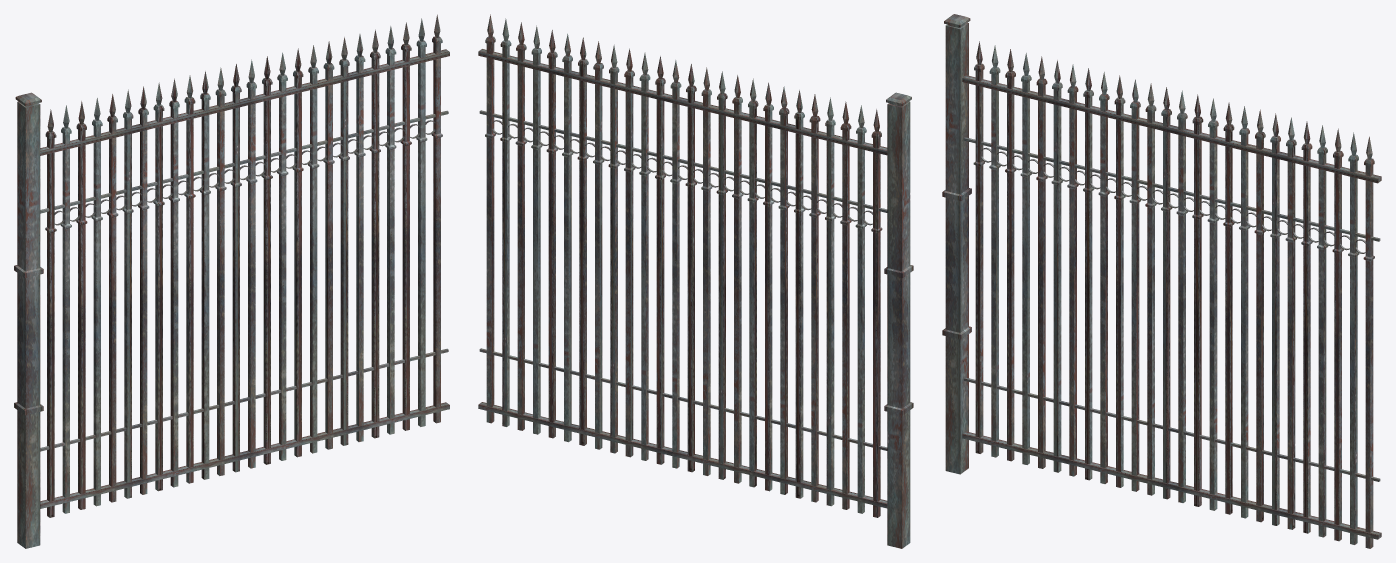
The model's file is fence.FBX.
3 views of the same model, side by side, from view 1: azimuth 30°, elevation 25°; view 2: azimuth 150°, elevation 25°; view 3: azimuth 330°, elevation 25° (orthographic).
Parts seen in each view (by area): view 1: Box002, Box001; view 2: Box002, Box001; view 3: Box002, Box001.
Part boxes in pixels (box(x1,y1,x2,y2)): Box002: box(40, 14, 449, 517); Box001: box(14, 92, 43, 548); Box002: box(478, 14, 887, 517); Box001: box(884, 92, 913, 548); Box002: box(962, 41, 1381, 548); Box001: box(942, 14, 971, 474).
Bounding box in the file's own units: 146 × 146 × 6.36.
